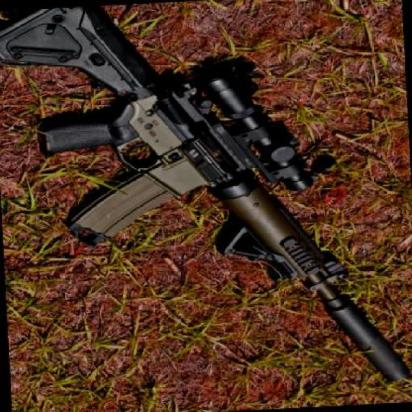Gun: (5, 0, 409, 381)
